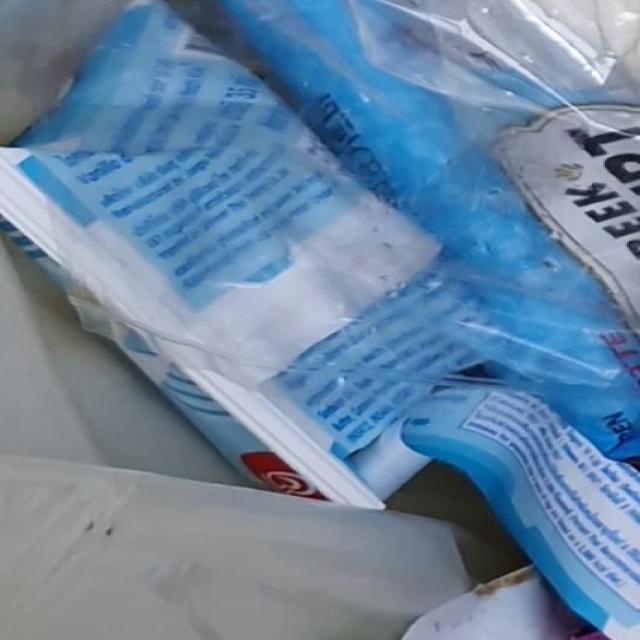plastic bag: (0, 0, 640, 560)
